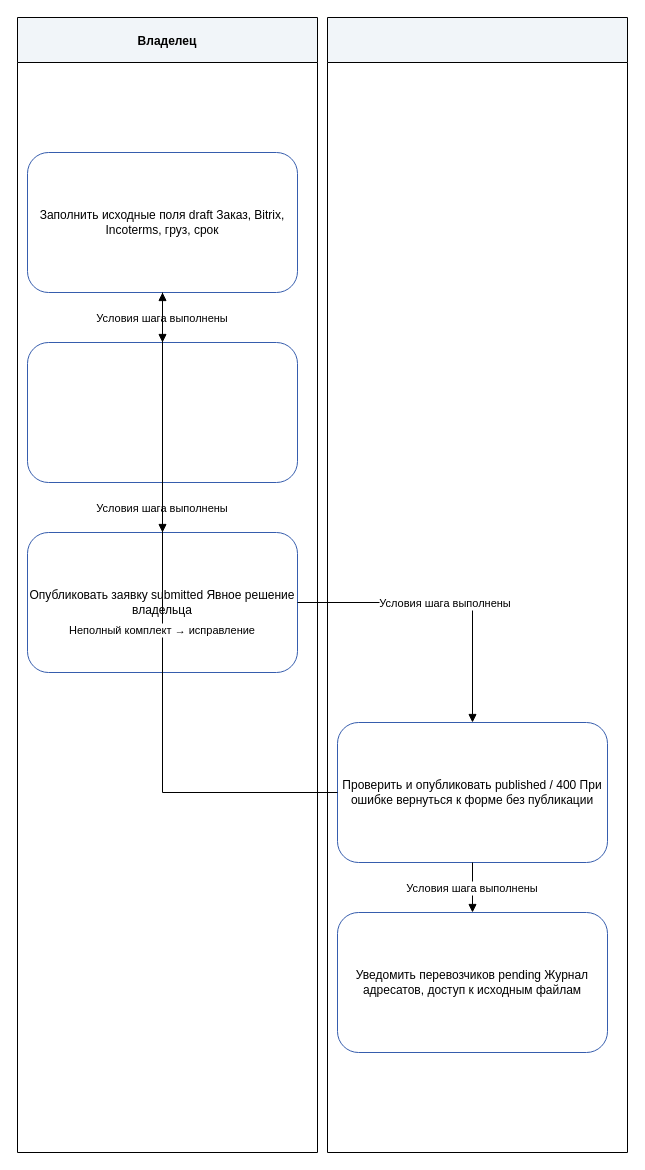
This 645x1170 diagram has some shape labels left out. Each missing label, with the box of its shape:
Загрузить документы draft Исходные вложения: (26, 342, 298, 482)
Система: (326, 16, 628, 1152)
